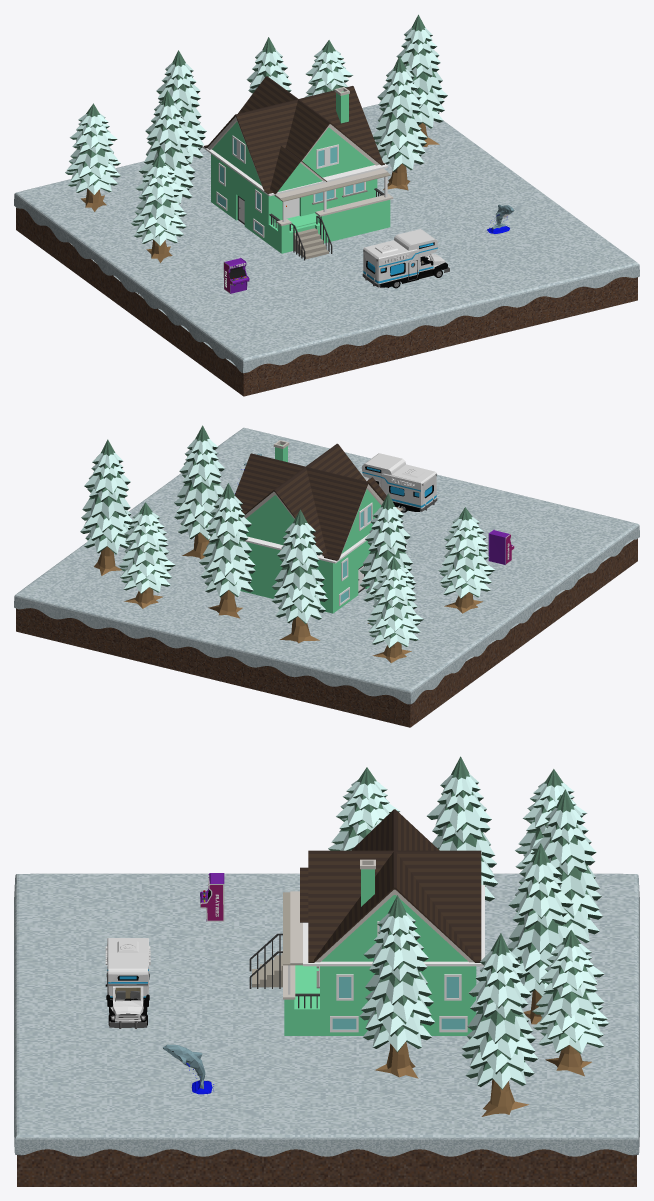
3 renders of one model, top to bottom at view 1: azimuth 30°, elevation 25°; view 2: azimuth 150°, elevation 25°; view 3: azimuth 270°, elevation 25°, orthographic. The views are drawn at different scales.
Visible parts, largest first — view 1: Cube.003, Cube.352, VEHICLES_CAMPER, OBJRANDOM_ARCADE; view 2: Cube.003, Cube.352, VEHICLES_CAMPER, OBJRANDOM_ARCADE; view 3: Cube.003, Cube.352, VEHICLES_CAMPER, OBJRANDOM_ARCADE, ANIMAL_DELFIN.
Boxes of the visible parts, box(x1,y1,x2,y2) form: Cube.003: box(14, 14, 639, 396); Cube.352: box(202, 76, 393, 260); VEHICLES_CAMPER: box(362, 229, 449, 288); OBJRANDOM_ARCADE: box(223, 257, 249, 293); Cube.003: box(14, 425, 639, 727); Cube.352: box(235, 440, 405, 613); VEHICLES_CAMPER: box(362, 453, 437, 512); OBJRANDOM_ARCADE: box(488, 529, 514, 564); Cube.003: box(14, 756, 639, 1186); Cube.352: box(249, 809, 484, 1035); VEHICLES_CAMPER: box(105, 938, 150, 1028); OBJRANDOM_ARCADE: box(200, 873, 224, 921); ANIMAL_DELFIN: box(163, 1044, 214, 1094).
Size of the model in its own units: 4040 by 1692 by 4040.
43 materials, 3 textured.
